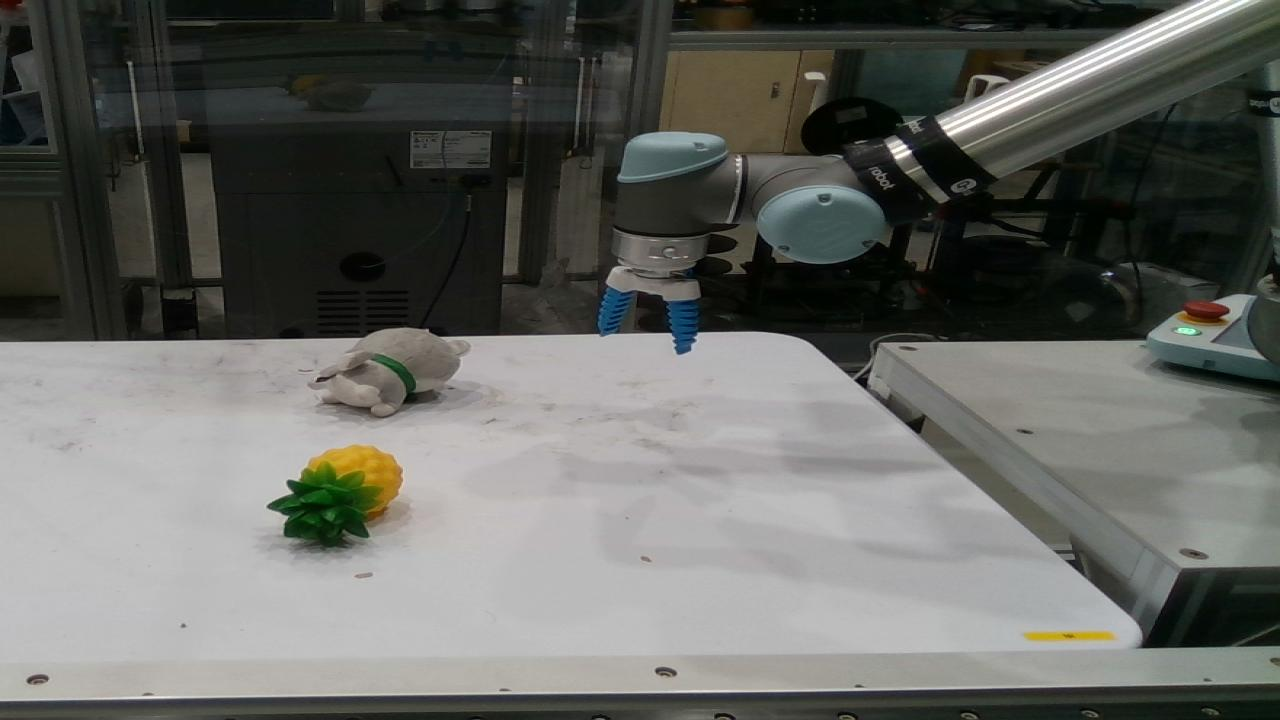UR5: (607, 0, 1279, 367)
gripper_left: (599, 286, 635, 337)
gripper_right: (666, 298, 699, 355)
target: (307, 328, 471, 417), (265, 444, 405, 547)
